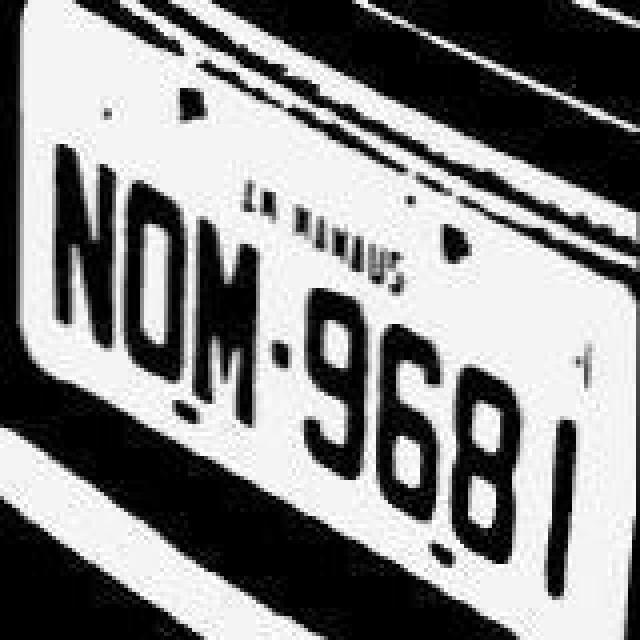1: (530, 320, 602, 608)
6: (372, 268, 448, 548)
8: (444, 286, 528, 578)
9: (298, 242, 378, 526)
M: (186, 190, 266, 482)
N: (38, 114, 118, 390)
O: (118, 158, 198, 434)
